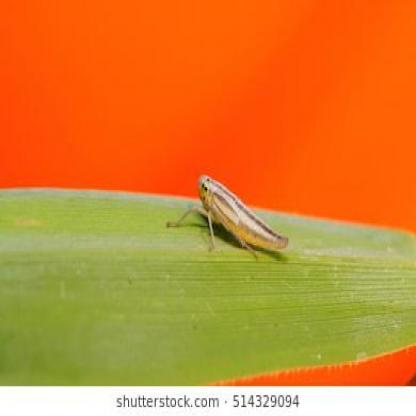Green-Leafhopper: (164, 162, 301, 271)
